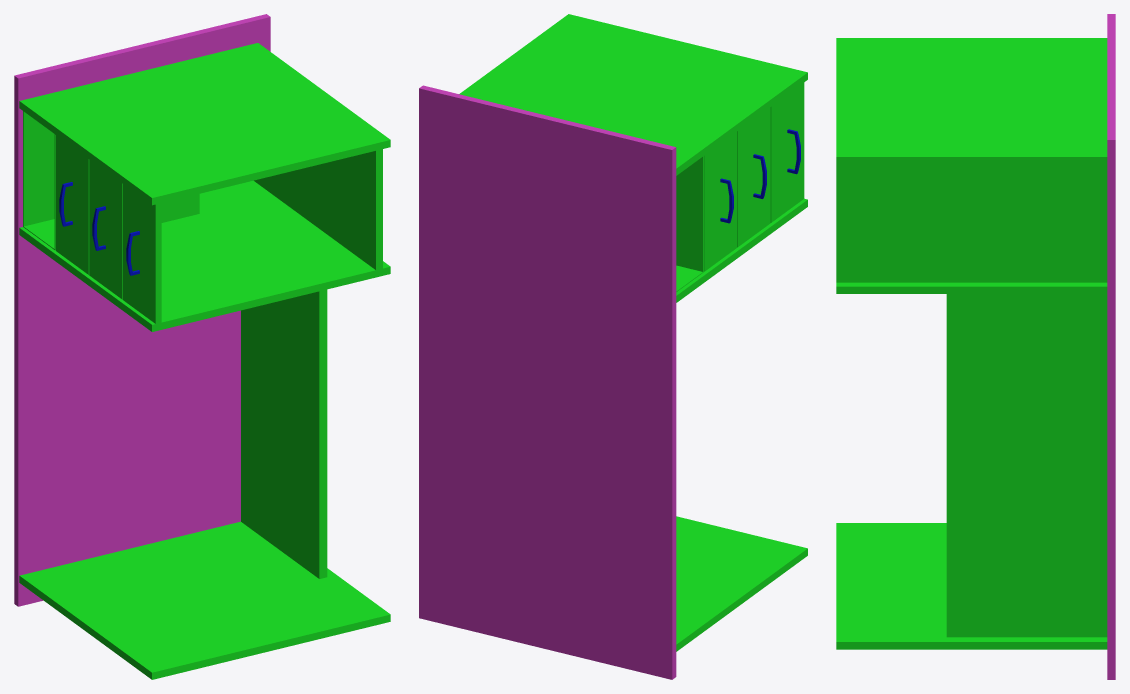
File: table_2.FBX
3 views of the same model, side by side, from view 1: azimuth 30°, elevation 25°; view 2: azimuth 150°, elevation 25°; view 3: azimuth 270°, elevation 25° (orthographic). The views are drawn at different scales.
Visible parts, largest first — view 1: base.002; view 2: base.002; view 3: base.002.
Part boxes in pixels (x1=…): base.002: x1=14, y1=14, x2=390, y2=679; base.002: x1=419, y1=14, x2=807, y2=679; base.002: x1=836, y1=14, x2=1115, y2=679.
Size of the model in its own units: 82.32 by 160 by 75.03.
